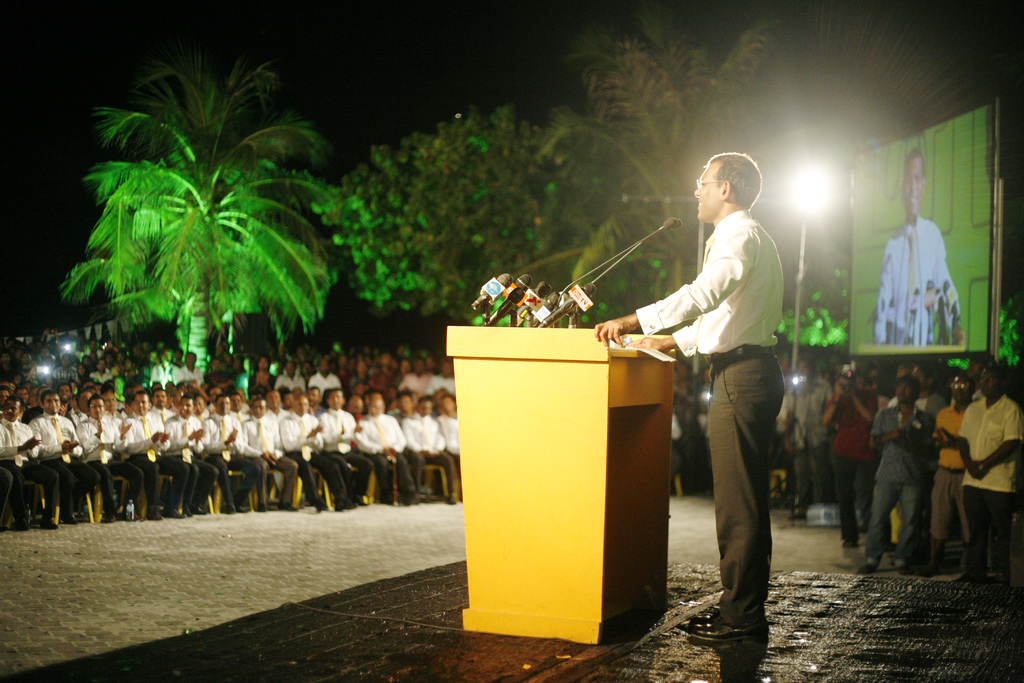Tree: (64, 48, 346, 380), (311, 107, 675, 322), (540, 1, 778, 297), (784, 245, 858, 356), (990, 295, 1023, 370)
